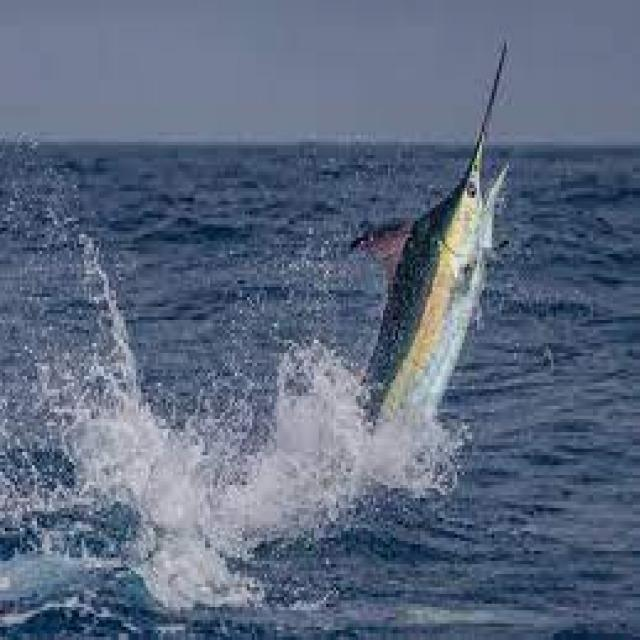Blue Marlin: (346, 40, 511, 442)
